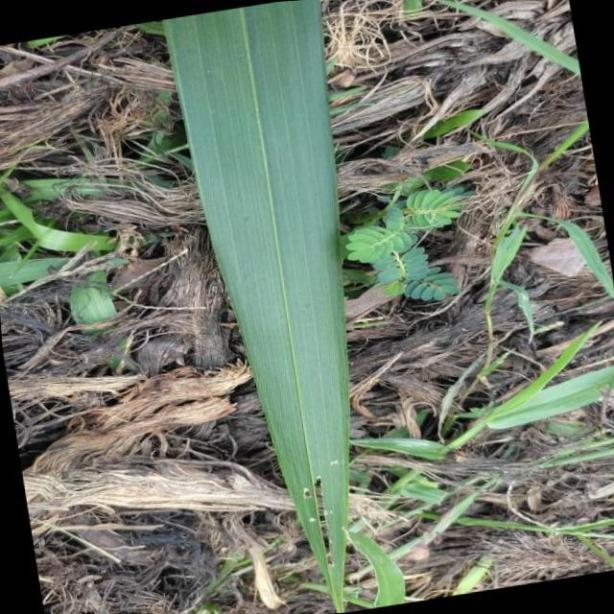Boron: (159, 3, 349, 614)
